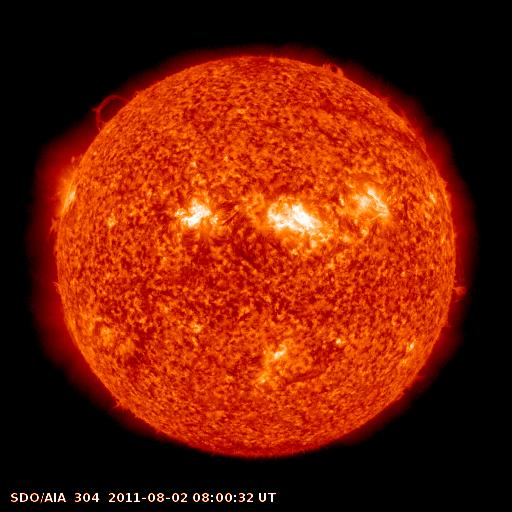prominence: (370, 86, 432, 156), (87, 91, 134, 137), (442, 276, 474, 306), (44, 209, 68, 246), (316, 55, 349, 78)
